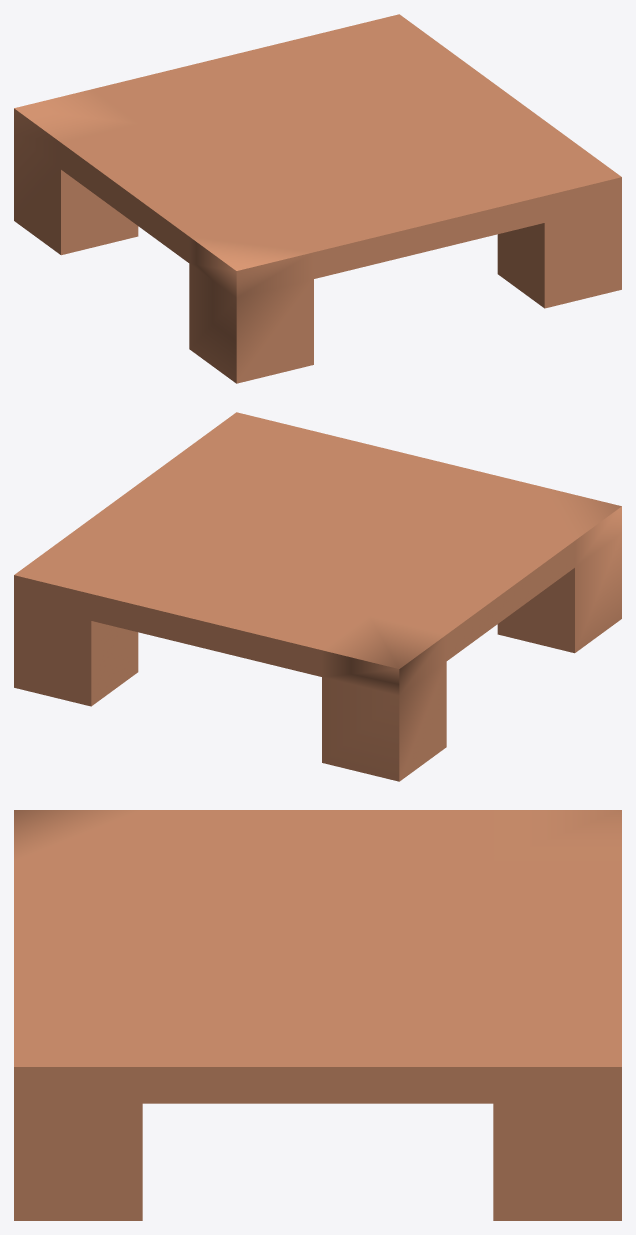
The model's file is BuildingPillars.fbx.
3 views of the same model, one above another, from view 1: azimuth 30°, elevation 25°; view 2: azimuth 150°, elevation 25°; view 3: azimuth 270°, elevation 25° (orthographic). The views are drawn at different scales.
Visible parts, largest first — view 1: BuildingPillars; view 2: BuildingPillars; view 3: BuildingPillars.
Part boxes in pixels (left/top/right/bottom): BuildingPillars: left=14, top=14, right=621, bottom=383; BuildingPillars: left=14, top=412, right=621, bottom=781; BuildingPillars: left=14, top=810, right=621, bottom=1220.
Bounding box in the file's own units: 300 × 83.75 × 300.
